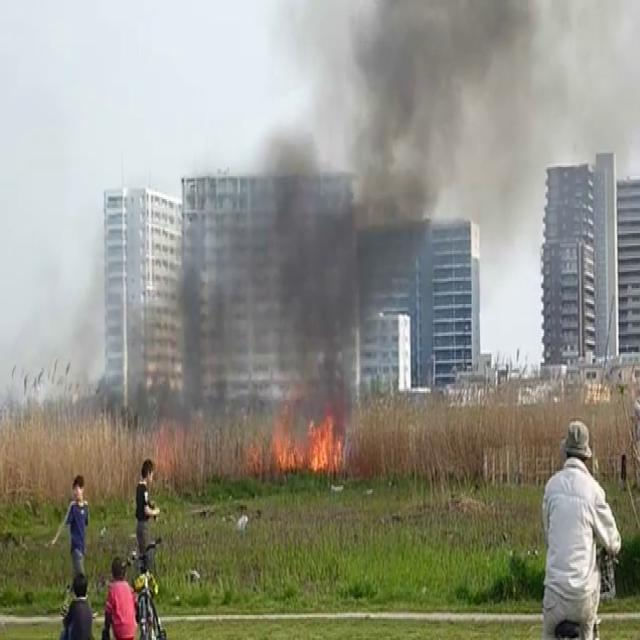Fire: (267, 396, 350, 482)
Smoke: (1, 3, 582, 463), (208, 0, 548, 448), (366, 0, 639, 213)
